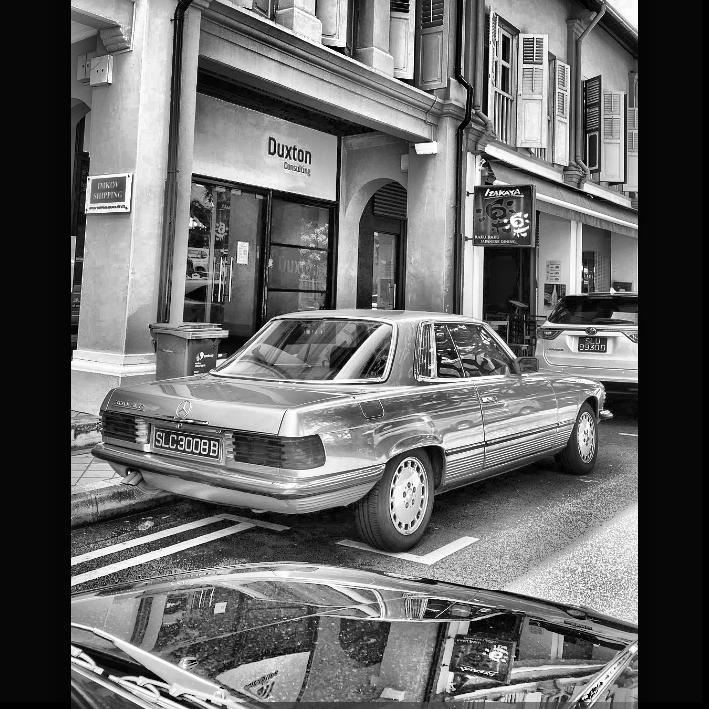License-Plates: (154, 429, 219, 459), (578, 337, 606, 352)
